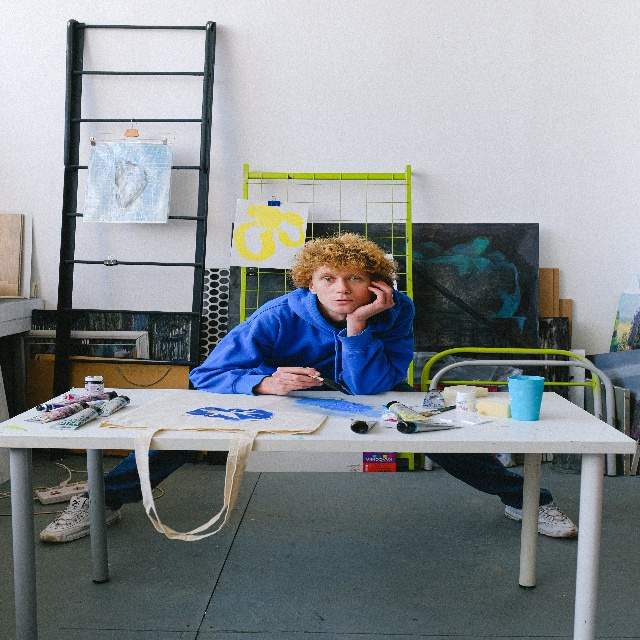Sin_guantes: (348, 278, 395, 320), (270, 365, 323, 396)
